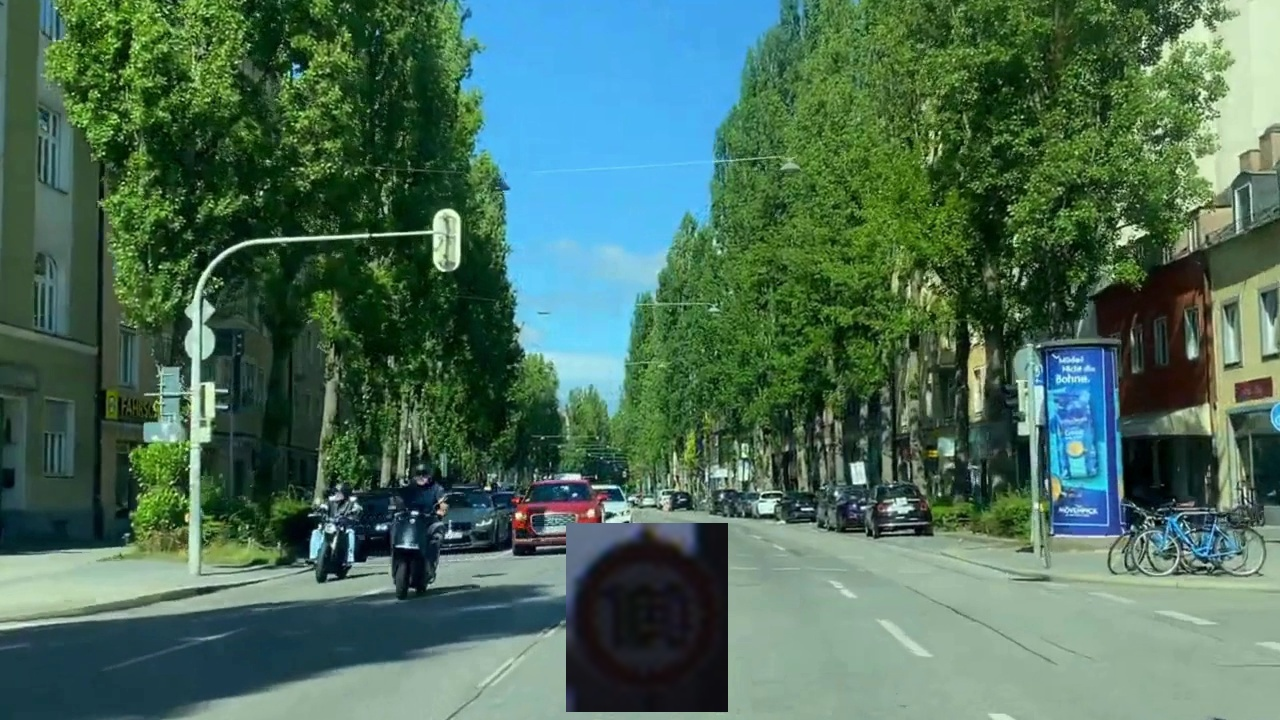Speed 100: (566, 523, 728, 712)
